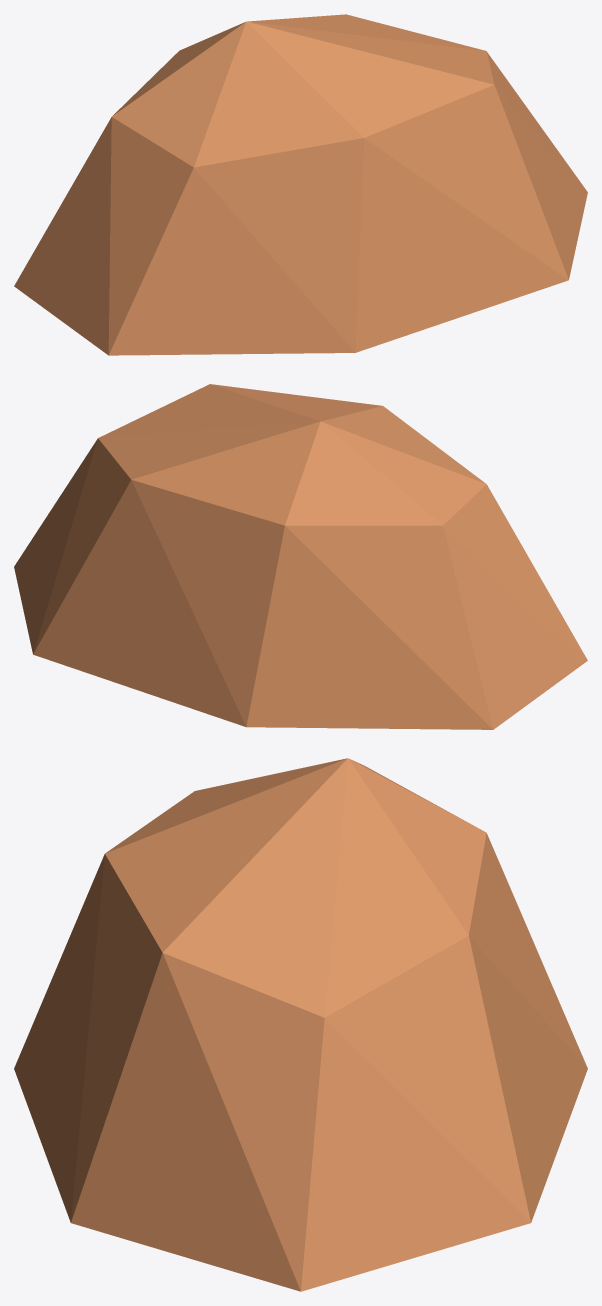
The picture shows the model from 3 angles, top to bottom: view 1: azimuth 30°, elevation 25°; view 2: azimuth 150°, elevation 25°; view 3: azimuth 270°, elevation 25°; orthographic projection. The views are drawn at different scales.
Parts seen in each view (by area): view 1: 区域散石_Mesa.001; view 2: 区域散石_Mesa.001; view 3: 区域散石_Mesa.001.
Boxes of the visible parts, left/top/right/bottom form: 区域散石_Mesa.001: left=14, top=14, right=587, bottom=355; 区域散石_Mesa.001: left=14, top=384, right=587, bottom=729; 区域散石_Mesa.001: left=14, top=758, right=587, bottom=1291.
Size of the model in its own units: 0.4182 by 0.18 by 0.2925.
